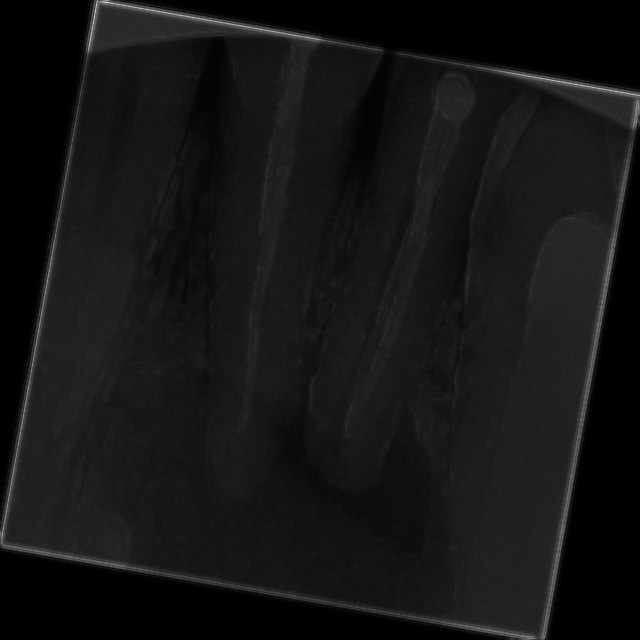Class 1- complete endodontic treatment: (131, 21, 384, 529), (287, 47, 514, 519)
